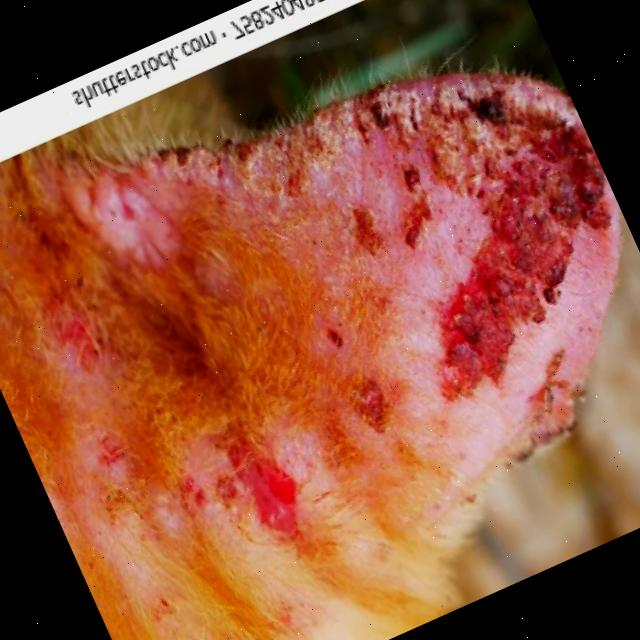cat-ringworm: (391, 153, 618, 394), (526, 93, 622, 245), (224, 438, 312, 547), (90, 166, 179, 268), (424, 88, 522, 178), (507, 366, 594, 455), (54, 308, 110, 381)
